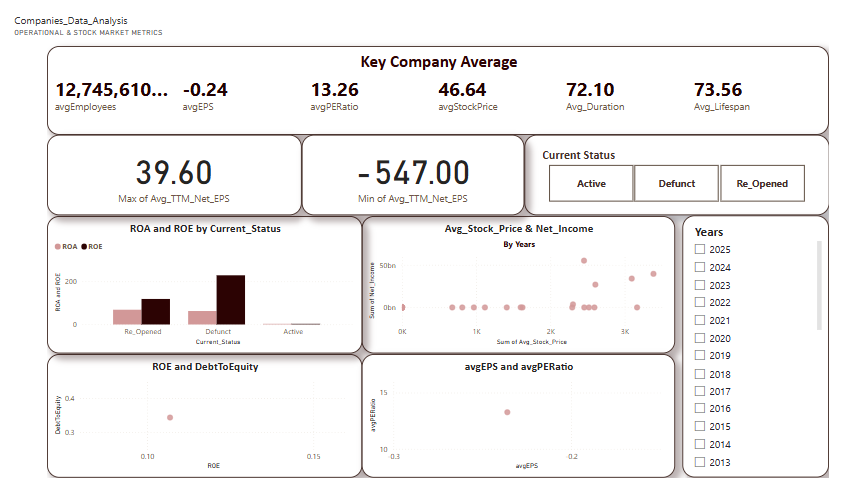

Layout of this report page (visuals, bound fields, positions):
{"tool":"powerbi","page":{"name":"Operational & Stock Market Metrics","canvas":[1280,720],"ordinal":2},"visuals":[{"type":"multiRowCard","title":"Key Company Average","fields":{"Values":["companies_mergedData.avgEmployees","companies_mergedData.avgEPS","companies_mergedData.avgPERatio","companies_mergedData.avgStockPrice","companies_mergedData.Avg_Duration","companies_mergedData.Avg_Lifespan"]},"box":[0,13.4,1280.2,144.9],"z":0},{"type":"slicer","fields":{"Values":["companies_mergedData.Current_Status"]},"box":[781.2,158.2,498.8,132.4],"z":1000},{"type":"scatterChart","title":"Avg_Stock_Price & Net_Income","fields":{"Category":["companies_mergedData.Years"],"X":["Sum(companies_mergedData.Avg_Stock_Price)"],"Y":["Sum(companies_mergedData.Net_Income)"]},"box":[515.4,291.3,512.4,225.6],"z":2000},{"type":"scatterChart","fields":{"X":["companies_mergedData.ROE"],"Y":["companies_mergedData.DebtToEquity"]},"box":[0,516.8,515.4,203.2],"z":3000},{"type":"scatterChart","fields":{"X":["companies_mergedData.avgEPS"],"Y":["companies_mergedData.avgPERatio"]},"box":[515.4,516.8,512.4,203.2],"z":4000},{"type":"clusteredColumnChart","fields":{"Y":["companies_mergedData.ROA","companies_mergedData.ROE"],"Category":["companies_mergedData.Current_Status"]},"box":[0,291.3,515.4,225.6],"z":5000},{"type":"slicer","fields":{"Values":["companies_mergedData.Years"]},"box":[1039.5,290.5,240.5,429.4],"z":6000},{"type":"card","fields":{"Values":["Max(companies_mergedData.Avg_TTM_Net_EPS)"]},"box":[0,158.2,416.4,132.4],"z":7000},{"type":"card","fields":{"Values":["Min(companies_mergedData.Avg_TTM_Net_EPS)"]},"box":[416.4,158.2,364.8,132.4],"z":8000}]}

Visuals, with their boxes in screenshot pixels (x1, y1, x2, y2), scaled from the page's 1280x720 canvas onto the 855x492 screenshot:
"Key Company Average" multiRowCard: <bbox>0, 9, 854, 108</bbox>
slicer - companies_mergedData.Current_Status: <bbox>522, 108, 854, 199</bbox>
"Avg_Stock_Price & Net_Income" scatterChart: <bbox>344, 199, 687, 353</bbox>
scatterChart - companies_mergedData.ROE x companies_mergedData.DebtToEquity: <bbox>0, 353, 344, 491</bbox>
scatterChart - companies_mergedData.avgEPS x companies_mergedData.avgPERatio: <bbox>344, 353, 687, 491</bbox>
clusteredColumnChart - companies_mergedData.ROA x companies_mergedData.ROE: <bbox>0, 199, 344, 353</bbox>
slicer - companies_mergedData.Years: <bbox>694, 199, 854, 491</bbox>
card - Max(companies_mergedData.Avg_TTM_Net_EPS): <bbox>0, 108, 278, 199</bbox>
card - Min(companies_mergedData.Avg_TTM_Net_EPS): <bbox>278, 108, 522, 199</bbox>
